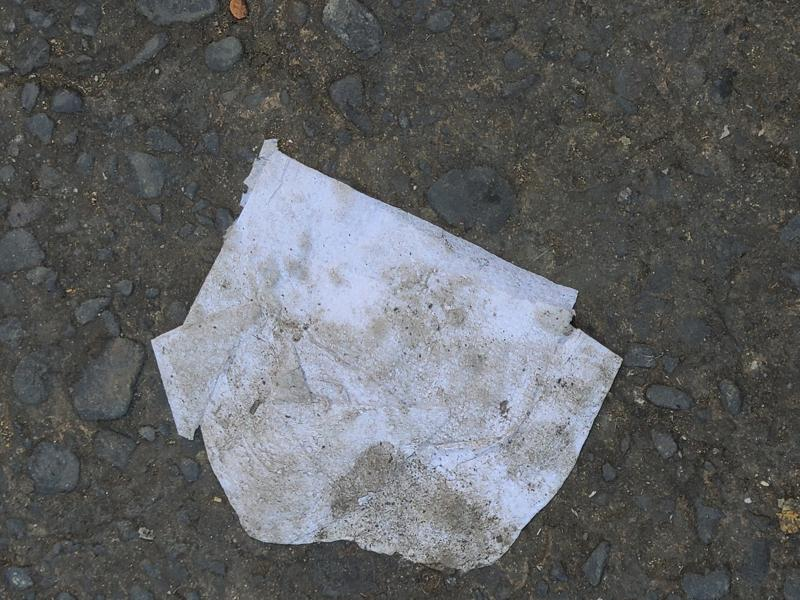papel: (148, 141, 622, 574)
